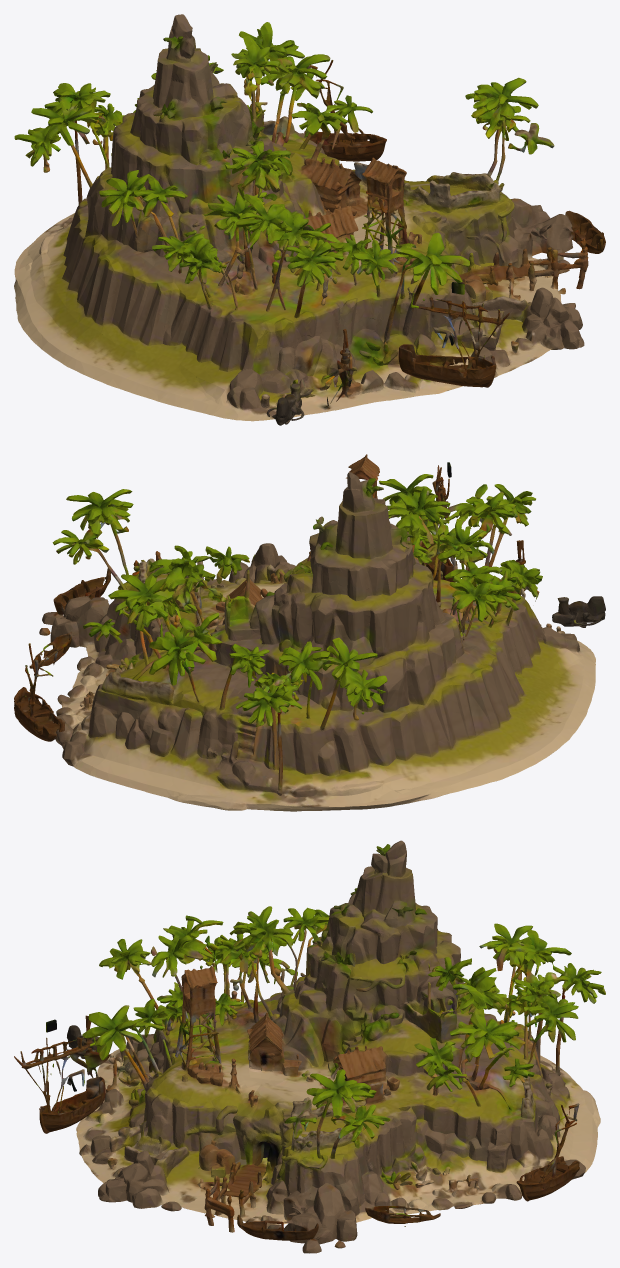
Rendered from island_01.glb.
The picture shows the model from 3 angles, top to bottom: view 1: azimuth 30°, elevation 25°; view 2: azimuth 150°, elevation 25°; view 3: azimuth 270°, elevation 25°; orthographic projection. The views are drawn at different scales.
Parts seen in each view (by area): view 1: tripo_node_b5714342-064b-426b-aa1b-4486ab7120cf; view 2: tripo_node_b5714342-064b-426b-aa1b-4486ab7120cf; view 3: tripo_node_b5714342-064b-426b-aa1b-4486ab7120cf.
Part boxes in pixels (box(x1,y1,x2,y2)): tripo_node_b5714342-064b-426b-aa1b-4486ab7120cf: box(14, 14, 605, 425); tripo_node_b5714342-064b-426b-aa1b-4486ab7120cf: box(14, 454, 605, 811); tripo_node_b5714342-064b-426b-aa1b-4486ab7120cf: box(14, 840, 605, 1253).
Size of the model in its own units: 0.9537 by 0.4673 by 1.
1 material, 1 textured.
